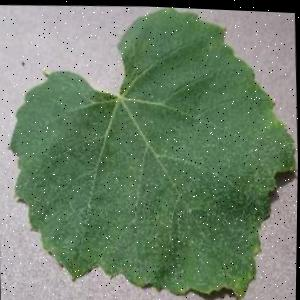Folha: (1, 0, 300, 300)
